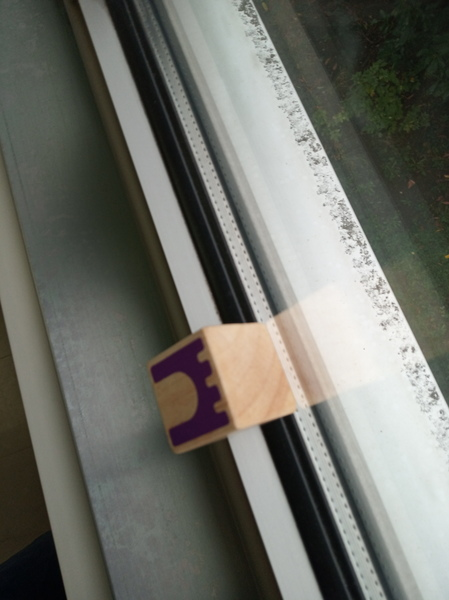violet: (144, 328, 292, 446)
